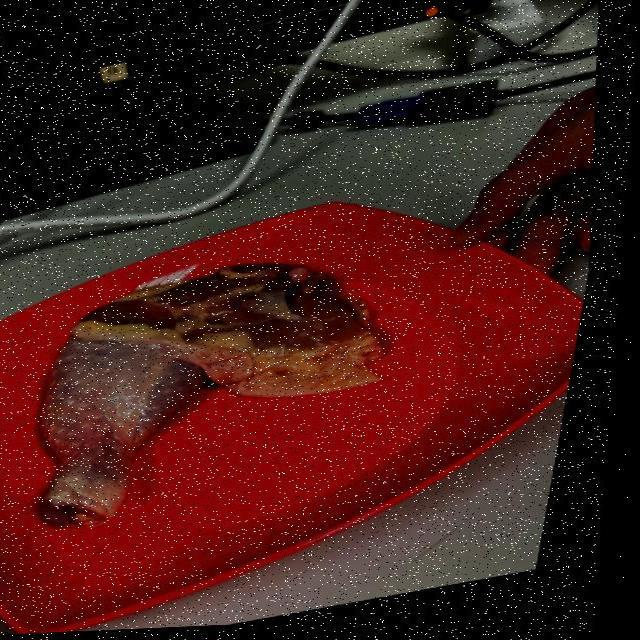quater: (38, 263, 388, 517)
